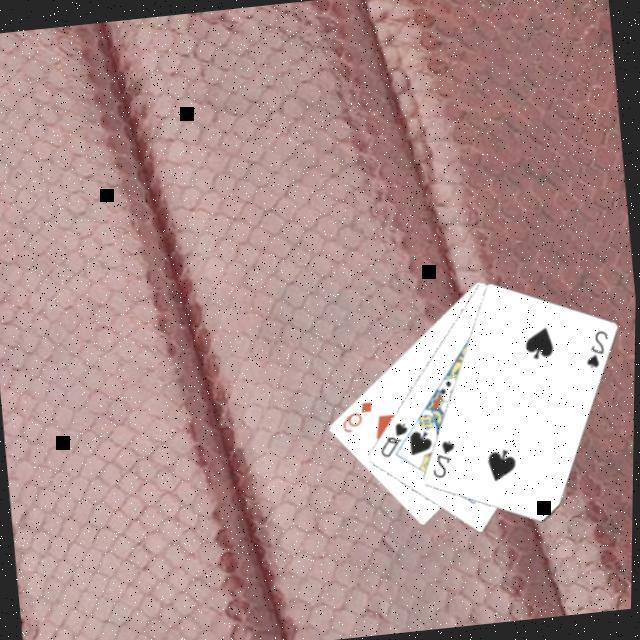2S: (425, 434, 461, 481), (579, 324, 614, 370)
6D: (336, 395, 378, 435)
QS: (374, 416, 412, 458)
